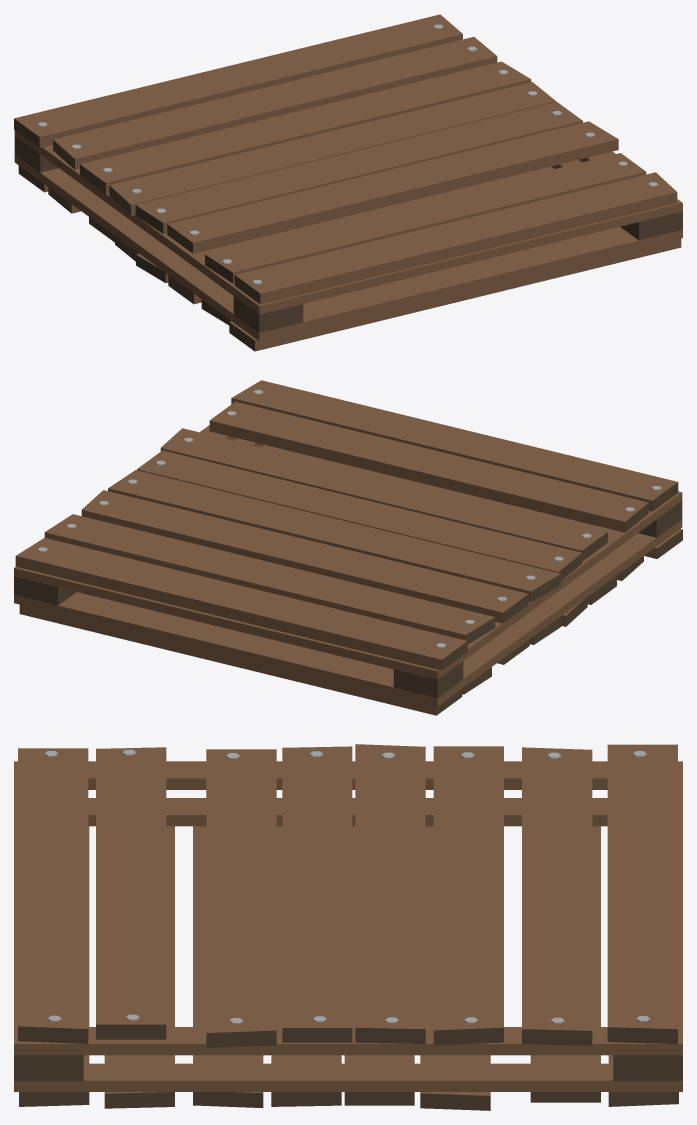
Rendered from SM_palette_euro.gltf.
3 renders of one model, top to bottom at view 1: azimuth 30°, elevation 25°; view 2: azimuth 150°, elevation 25°; view 3: azimuth 270°, elevation 25°, orthographic. The views are drawn at different scales.
Visible parts, largest first — view 1: SM_palette_euro; view 2: SM_palette_euro; view 3: SM_palette_euro.
Boxes of the visible parts, x1,y1,x2,y2 form: SM_palette_euro: (14,14,682,351); SM_palette_euro: (14,380,682,715); SM_palette_euro: (14,744,682,1110).
Bounding box in the file's own units: 1.57 × 0.2007 × 1.54.
1 material, 1 textured.
